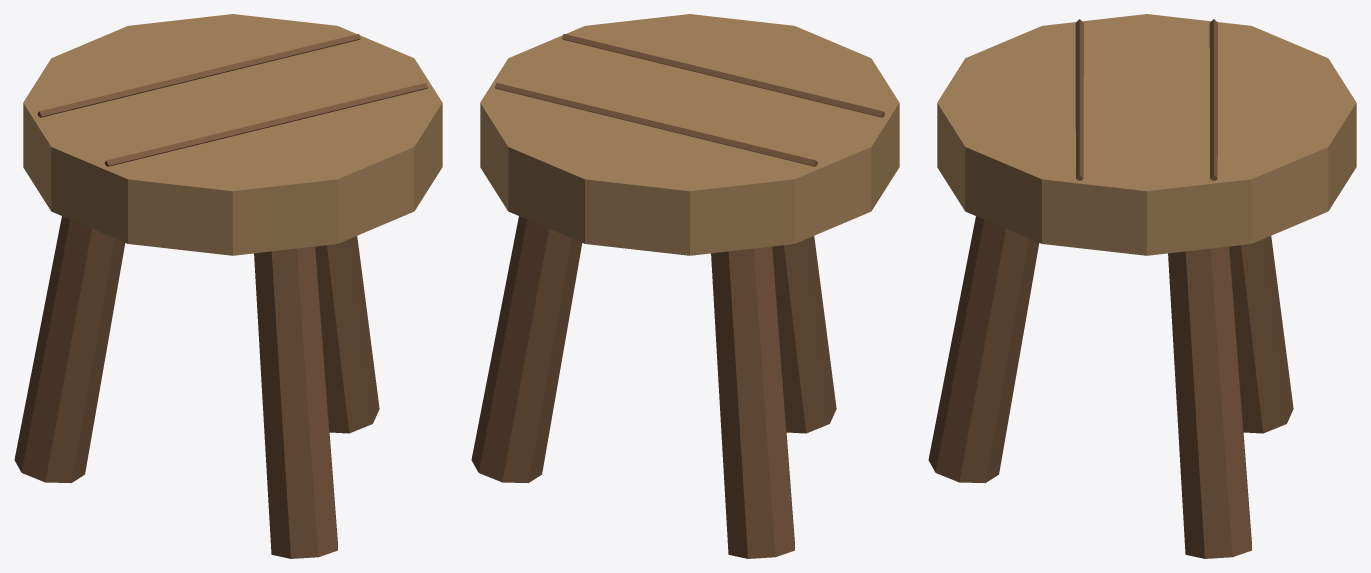
The picture shows the model from 3 angles, left to right: view 1: azimuth 30°, elevation 25°; view 2: azimuth 150°, elevation 25°; view 3: azimuth 270°, elevation 25°; orthographic projection.
Parts seen in each view (by area): view 1: BA-0018 batched; view 2: BA-0018 batched; view 3: BA-0018 batched.
Boxes of the visible parts, x1,y1,x2,y2 form: BA-0018 batched: (14,14,442,558); BA-0018 batched: (471,14,899,558); BA-0018 batched: (928,14,1356,558).
Bounding box in the file's own units: 0.5 × 0.5071 × 0.5104.
